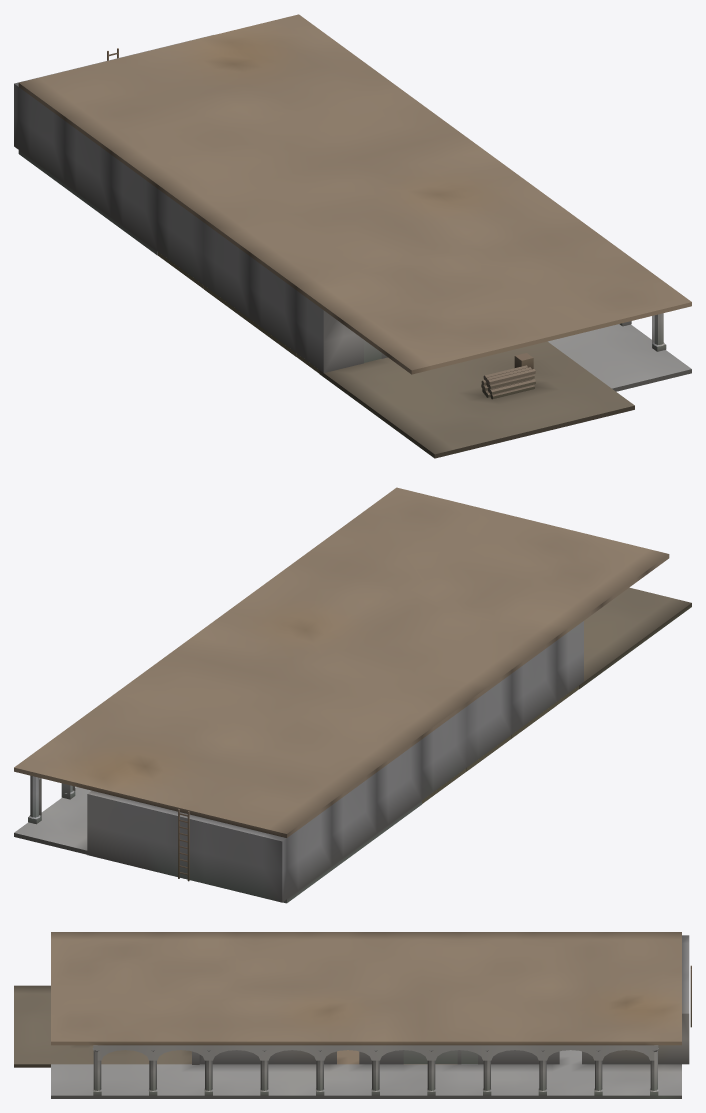
File: west_range.glb
3 views of the same model, one above another, from view 1: azimuth 30°, elevation 25°; view 2: azimuth 150°, elevation 25°; view 3: azimuth 270°, elevation 25° (orthographic). The views are drawn at different scales.
Parts seen in each view (by area): view 1: floor_mud_4.002, floor_flag_4.014, floor_mud_4.001, wall_rubble_4.003, wall_rubble_4.005, wall_rubble_4.006, wall_rubble_4.008, wall_rubble_4.007, wall_rubble_4.004, floor_mud_4.004, wall_rubble_2.005, wall_rubble_2.002 (+130 smaller); view 2: wall_rubble_4.001, wall_rubble_4.002, wall_rubble_4.003, wall_rubble_4.004, wall_rubble_4.006, wall_rubble_4.007, wall_rubble_4.008, wall_rubble_4.005, floor_mud_4.002, wall_rubble_2.001, floor_flag_4.007, wall_rubble_2.002 (+121 smaller); view 3: floor_flag_4.010, floor_flag_4.012, floor_flag_4.009, floor_flag_4.013, floor_flag_4.007, floor_flag_4.008, floor_flag_4.014, floor_flag_4.011, wall_rubble_4.009, wall_rubble_4.011, floor_board_2.229, floor_board_2.238 (+154 smaller).
Part boxes in pixels (left/top/right/bottom): floor_mud_4.002: left=365, top=384, right=491, bottom=441; floor_flag_4.014: left=548, top=324, right=668, bottom=371; floor_mud_4.001: left=319, top=357, right=444, bottom=407; wall_rubble_4.003: left=18, top=87, right=64, bottom=183; wall_rubble_4.005: left=111, top=155, right=157, bottom=250; wall_rubble_4.006: left=157, top=189, right=203, bottom=284; wall_rubble_4.008: left=249, top=256, right=295, bottom=352; wall_rubble_4.007: left=203, top=223, right=249, bottom=318; wall_rubble_4.004: left=65, top=121, right=110, bottom=216; floor_mud_4.004: left=446, top=367, right=571, bottom=417; wall_rubble_2.005: left=319, top=307, right=363, bottom=372; wall_rubble_2.002: left=296, top=290, right=319, bottom=369; wall_rubble_4.001: left=204, top=819, right=286, bottom=902; wall_rubble_4.002: left=126, top=800, right=208, bottom=883; wall_rubble_4.003: left=287, top=805, right=331, bottom=898; wall_rubble_4.004: left=332, top=772, right=376, bottom=865; wall_rubble_4.006: left=422, top=706, right=466, bottom=799; wall_rubble_4.007: left=467, top=673, right=511, bottom=767; wall_rubble_4.008: left=512, top=641, right=556, bottom=734; wall_rubble_4.005: left=377, top=739, right=421, bottom=832; floor_mud_4.002: left=584, top=604, right=669, bottom=655; wall_rubble_2.001: left=87, top=790, right=130, bottom=864; floor_flag_4.007: left=14, top=800, right=87, bottom=854; wall_rubble_2.002: left=557, top=624, right=579, bottom=701; floor_flag_4.010: left=385, top=1064, right=459, bottom=1098; floor_flag_4.012: left=236, top=1064, right=310, bottom=1098; floor_flag_4.009: left=459, top=1064, right=533, bottom=1098; floor_flag_4.013: left=162, top=1064, right=236, bottom=1098; floor_flag_4.007: left=608, top=1064, right=681, bottom=1098; floor_flag_4.008: left=533, top=1064, right=607, bottom=1098; floor_flag_4.014: left=88, top=1064, right=162, bottom=1098; floor_flag_4.011: left=311, top=1064, right=384, bottom=1098; wall_rubble_4.009: left=608, top=1045, right=681, bottom=1064; wall_rubble_4.011: left=403, top=1050, right=477, bottom=1063; floor_board_2.229: left=496, top=1026, right=533, bottom=1045; floor_board_2.238: left=162, top=1026, right=199, bottom=1045.
Size of the model in its own units: 14.07 by 3.6 by 36.54.
